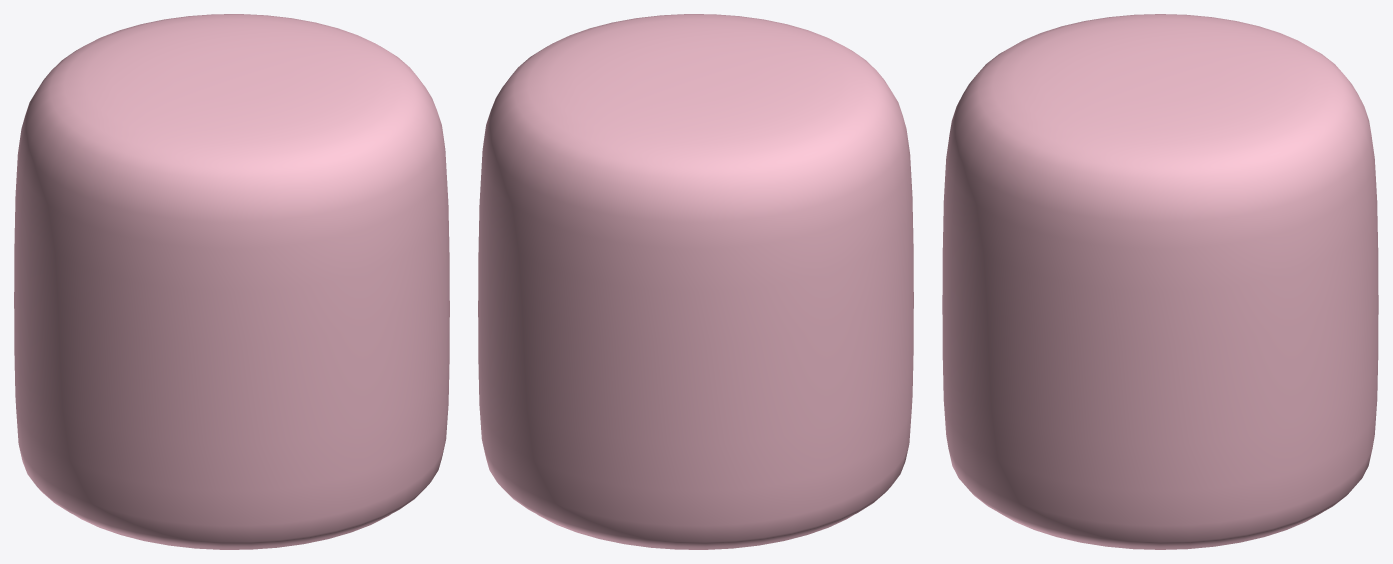
Rendered from marshmallow_pink.glb.
3 views of the same model, side by side, from view 1: azimuth 30°, elevation 25°; view 2: azimuth 150°, elevation 25°; view 3: azimuth 270°, elevation 25° (orthographic).
Visible parts, largest first — view 1: marshmallow; view 2: marshmallow; view 3: marshmallow.
Part boxes in pixels (x1,y1,x2,y2): marshmallow: (14,14,449,549); marshmallow: (478,14,913,549); marshmallow: (942,14,1378,549).
Bounding box in the file's own units: 1.19 × 1.2 × 1.19.
Materials: 1 (1 with a texture image).
